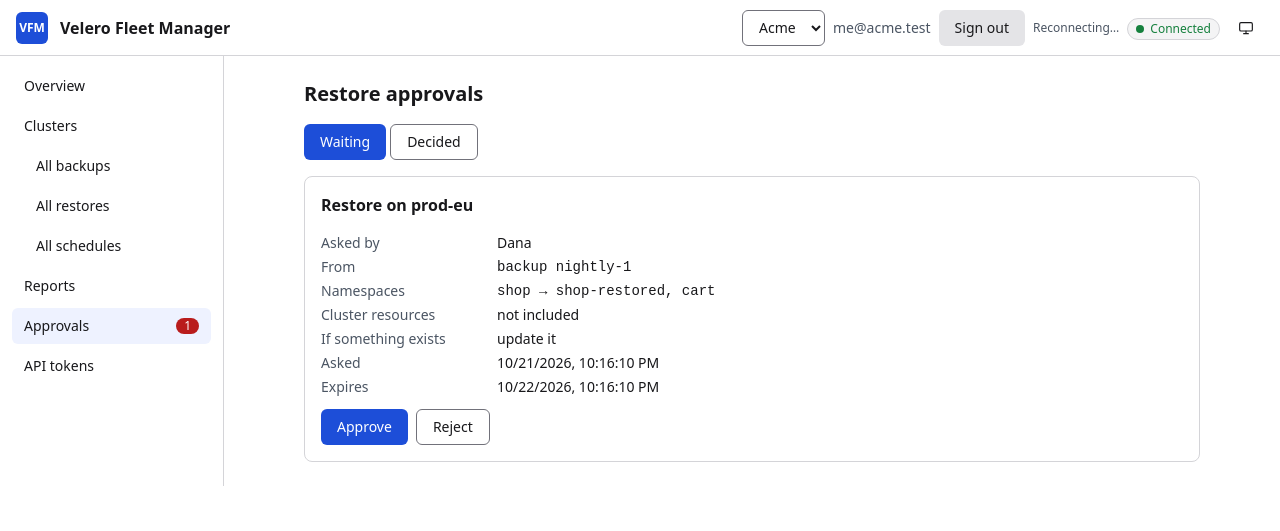
Scenario: the approvals page › shows the server’s reason when a decision is refused
What coordinates should you click on to do the following:
click the button with aria-label "Approve the restore on prod-eu"
I would click on:
 (364, 427)
Its box is 321,409 -> 408,445.
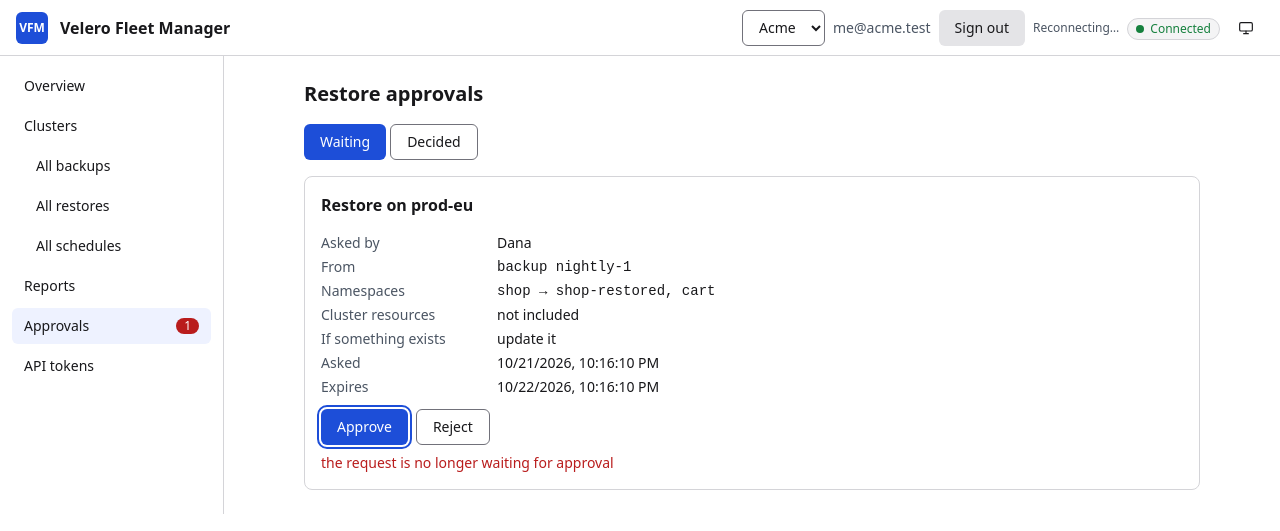
Result: the message "the request is no longer waiting for approval" is shown at 321,453 -> 614,472
